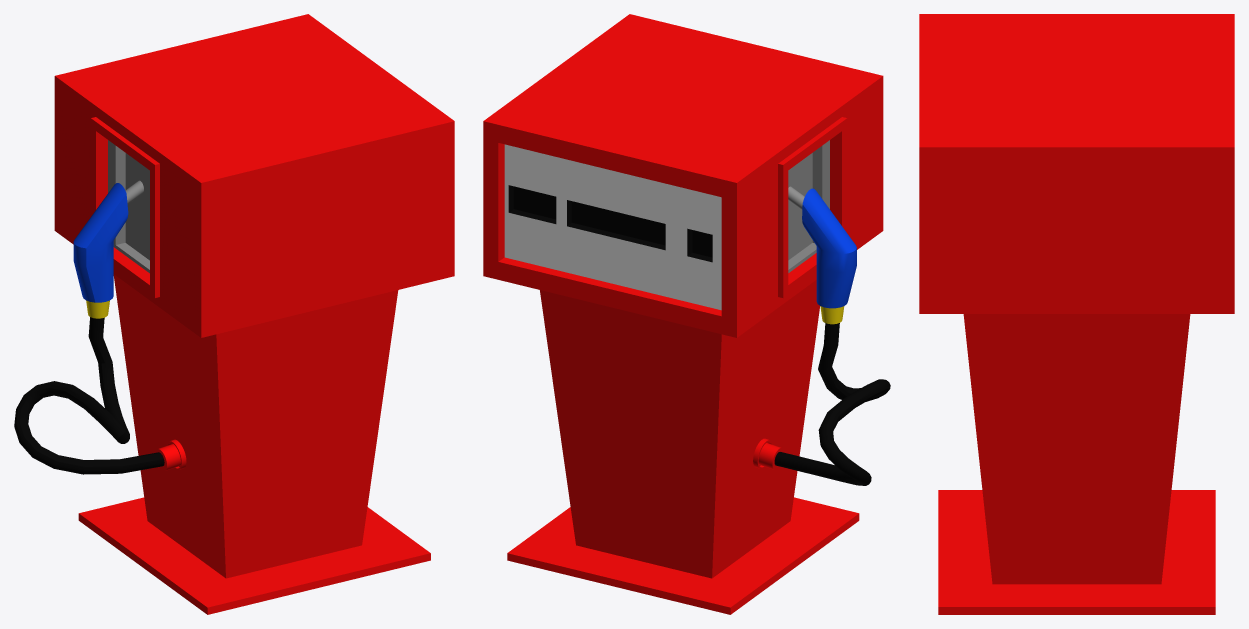
File: gasstationpump2_1.fbx
3 renders of one model, left to right at view 1: azimuth 30°, elevation 25°; view 2: azimuth 150°, elevation 25°; view 3: azimuth 270°, elevation 25°, orthographic. The views are drawn at different scales.
Parts seen in each view (by area): view 1: gasstationpump2_1, gasstationpump2; view 2: gasstationpump2_1, gasstationpump2; view 3: gasstationpump2_1.
Part boxes in pixels (box(x1,y1,x2,y2)): gasstationpump2_1: box(54, 14, 454, 614); gasstationpump2: box(14, 180, 164, 474); gasstationpump2_1: box(483, 14, 883, 614); gasstationpump2: box(774, 186, 890, 485); gasstationpump2_1: box(919, 14, 1234, 614).
Size of the model in its own units: 203 by 255 by 153.
